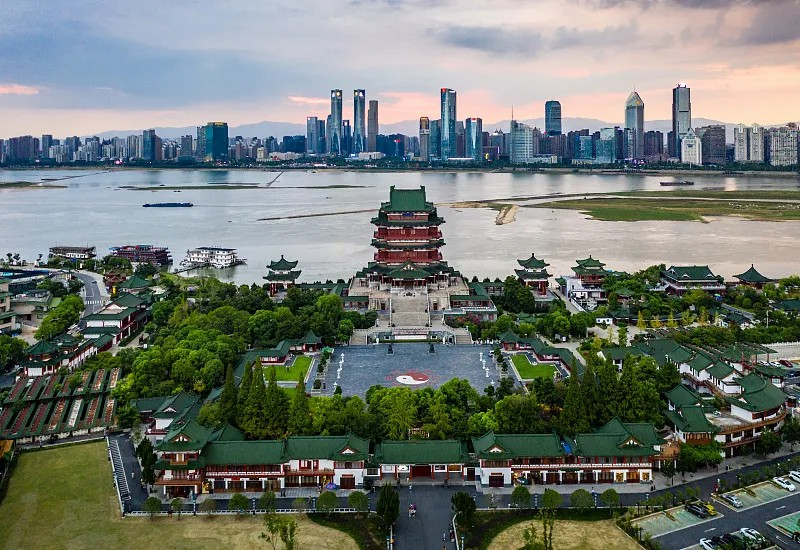Teng: (357, 185, 460, 288)
